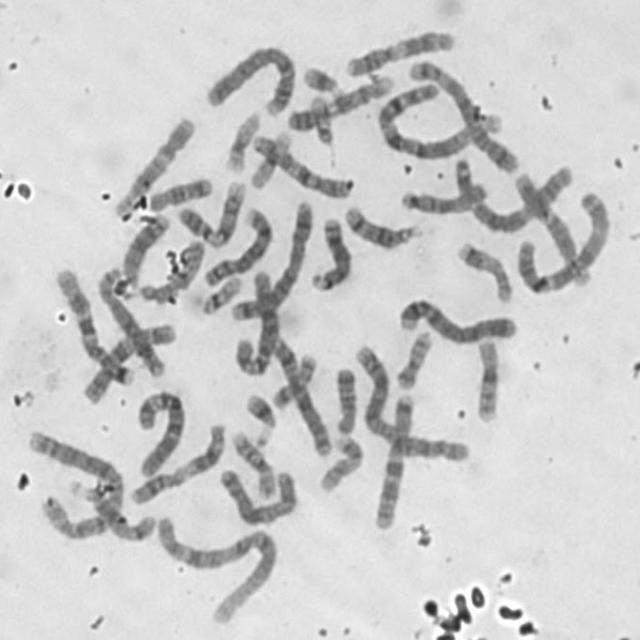A1: (150, 510, 280, 630), (369, 74, 518, 165)
A2: (349, 337, 473, 466), (20, 423, 126, 542)
A3: (512, 177, 613, 293), (449, 152, 576, 233)
B4: (202, 38, 299, 116), (394, 291, 521, 346)
B5: (404, 52, 522, 176), (224, 194, 316, 324)
C10: (77, 316, 177, 404), (246, 126, 356, 201)
C11: (124, 417, 229, 508), (340, 24, 458, 78)
C12: (511, 166, 594, 290), (110, 109, 198, 218)
C6: (231, 263, 281, 377), (131, 384, 189, 478)
C7: (50, 260, 138, 390), (370, 387, 420, 532)
C8: (92, 261, 167, 380), (199, 201, 275, 289)
C9: (282, 68, 396, 132), (174, 174, 250, 248)
D13: (117, 207, 173, 291), (306, 210, 354, 293)
D14: (69, 477, 156, 544), (338, 199, 424, 252)
D15: (136, 234, 207, 305), (395, 176, 491, 216)
E16: (228, 425, 278, 500), (472, 332, 503, 425)
E17: (452, 235, 514, 305), (314, 429, 365, 495)
E18: (143, 170, 215, 212), (330, 360, 360, 436)
F19: (246, 124, 295, 192), (221, 105, 264, 173)
F20: (269, 348, 318, 411), (392, 324, 436, 391)
G21: (241, 387, 279, 448), (298, 59, 344, 97)
G22: (196, 270, 245, 316), (305, 89, 337, 145)
X: (266, 331, 334, 460), (214, 461, 298, 528)
